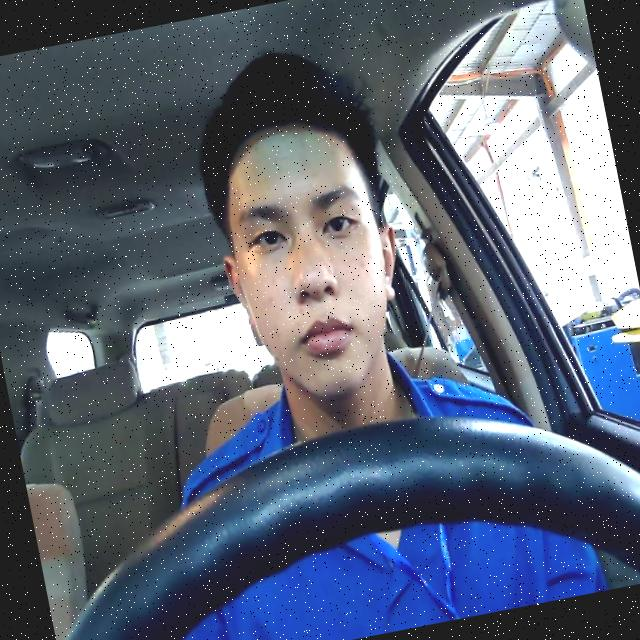focused: (198, 108, 425, 416)
